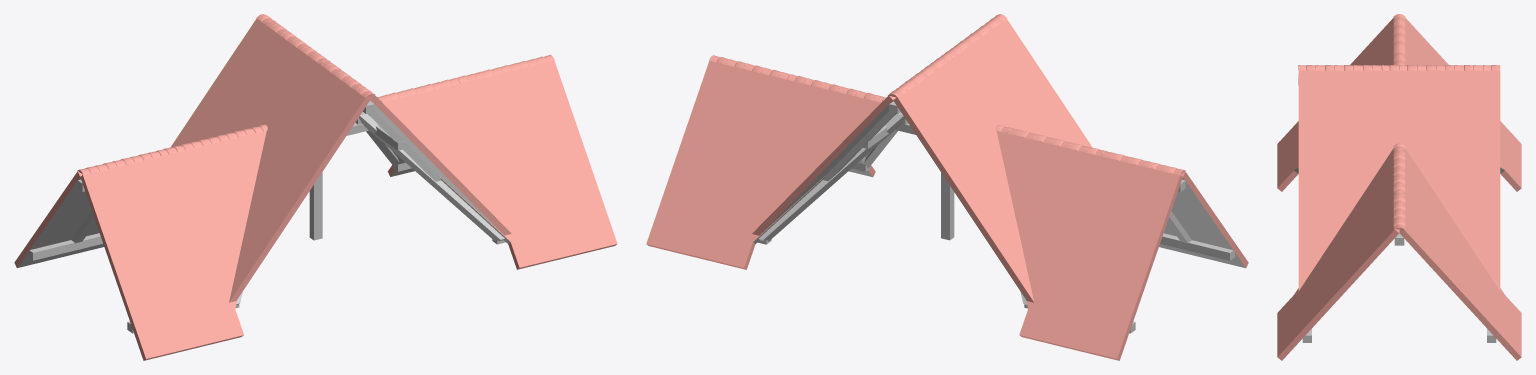
Rendered from dfk_roof_large_intersect_B.fbx.
3 views of the same model, side by side, from view 1: azimuth 30°, elevation 25°; view 2: azimuth 150°, elevation 25°; view 3: azimuth 270°, elevation 25° (orthographic). The views are drawn at different scales.
Parts seen in each view (by area): view 1: dfk_roof_B; view 2: dfk_roof_B; view 3: dfk_roof_B.
Part boxes in pixels (x1,y1,x2,y2): dfk_roof_B: (14,14,617,360); dfk_roof_B: (646,14,1248,360); dfk_roof_B: (1277,14,1521,360).
Bounding box in the file's own units: 12.5 × 5.15 × 6.05.
